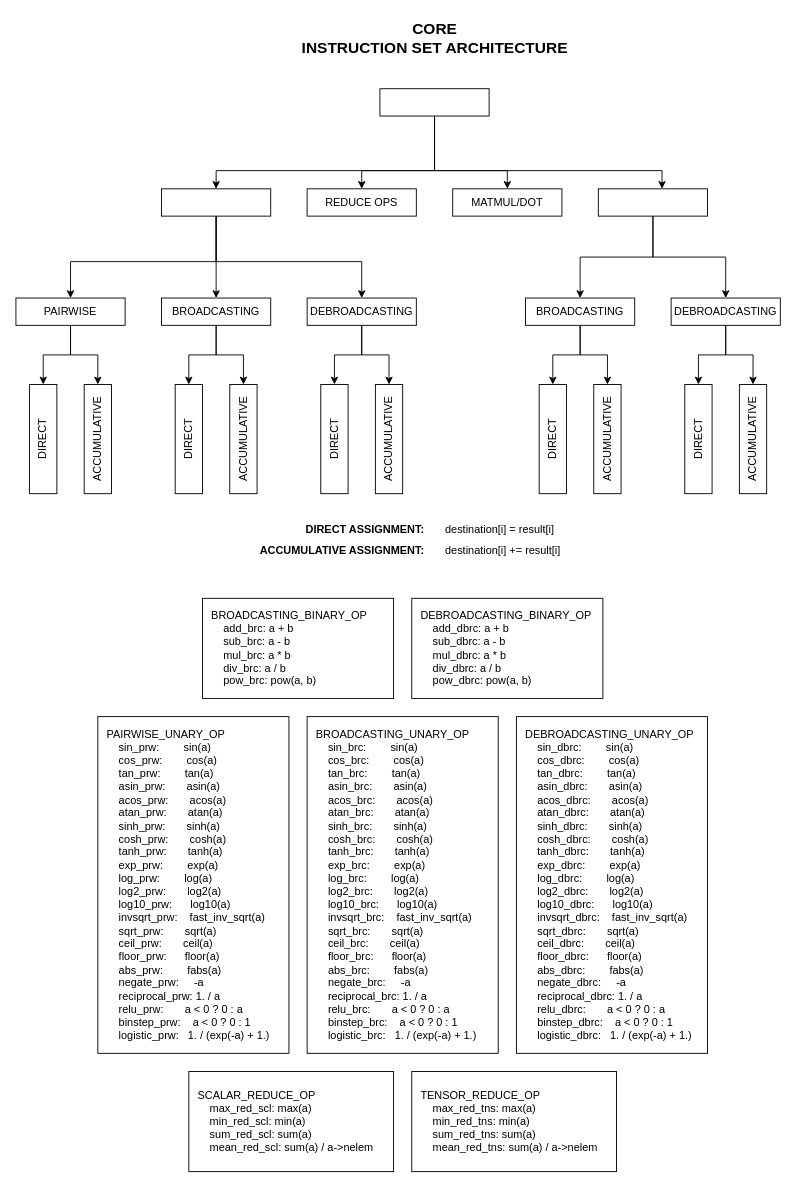
This 796x1188 diagram has some shape labels left out. The shapes that lost their labels are listed below. From the top down, each one's centre as x and y in pixels, then its label:
At point 434,102: "ALL OPERATIONS".
At point 216,202: "UNARY OPS".
At point 652,202: "BINARY OPS".
